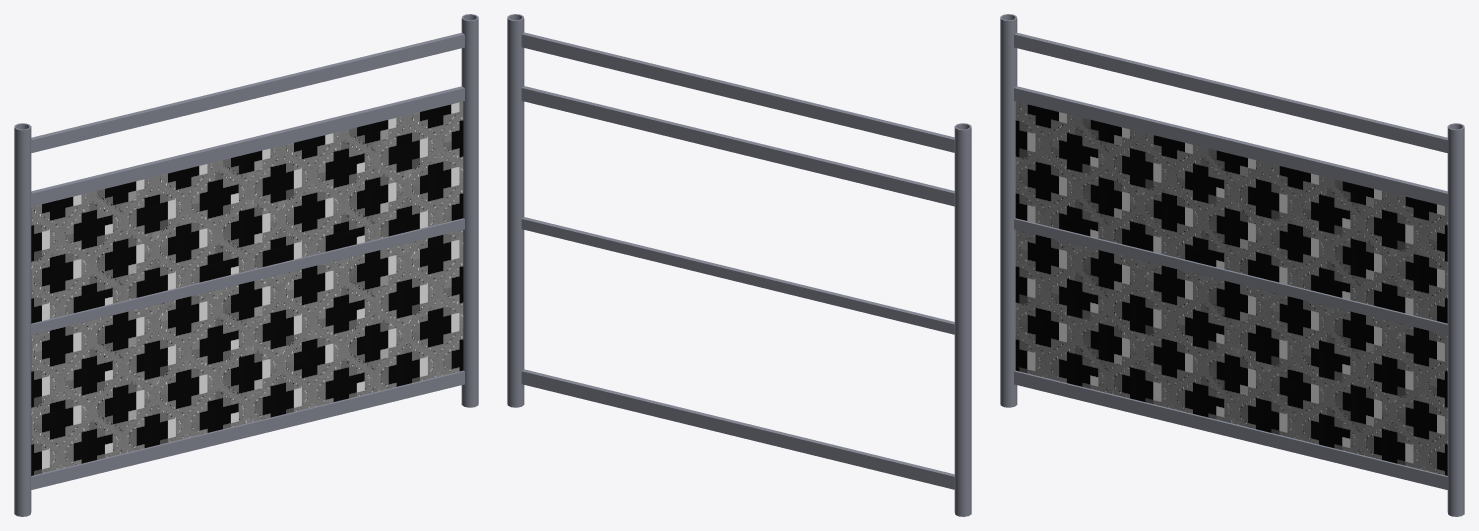
The model's file is fence-chain.glb.
The picture shows the model from 3 angles, left to right: view 1: azimuth 30°, elevation 25°; view 2: azimuth 150°, elevation 25°; view 3: azimuth 330°, elevation 25°; orthographic projection.
Visible parts, largest first — view 1: MetalFence; view 2: MetalFence; view 3: MetalFence.
Boxes of the visible parts, box(x1,y1,x2,y2) form: MetalFence: box(14, 14, 478, 516); MetalFence: box(507, 14, 971, 516); MetalFence: box(1000, 14, 1464, 516).
Bounding box in the file's own units: 3 × 2.4 × 0.097.
Materials: 2 (1 with a texture image).
